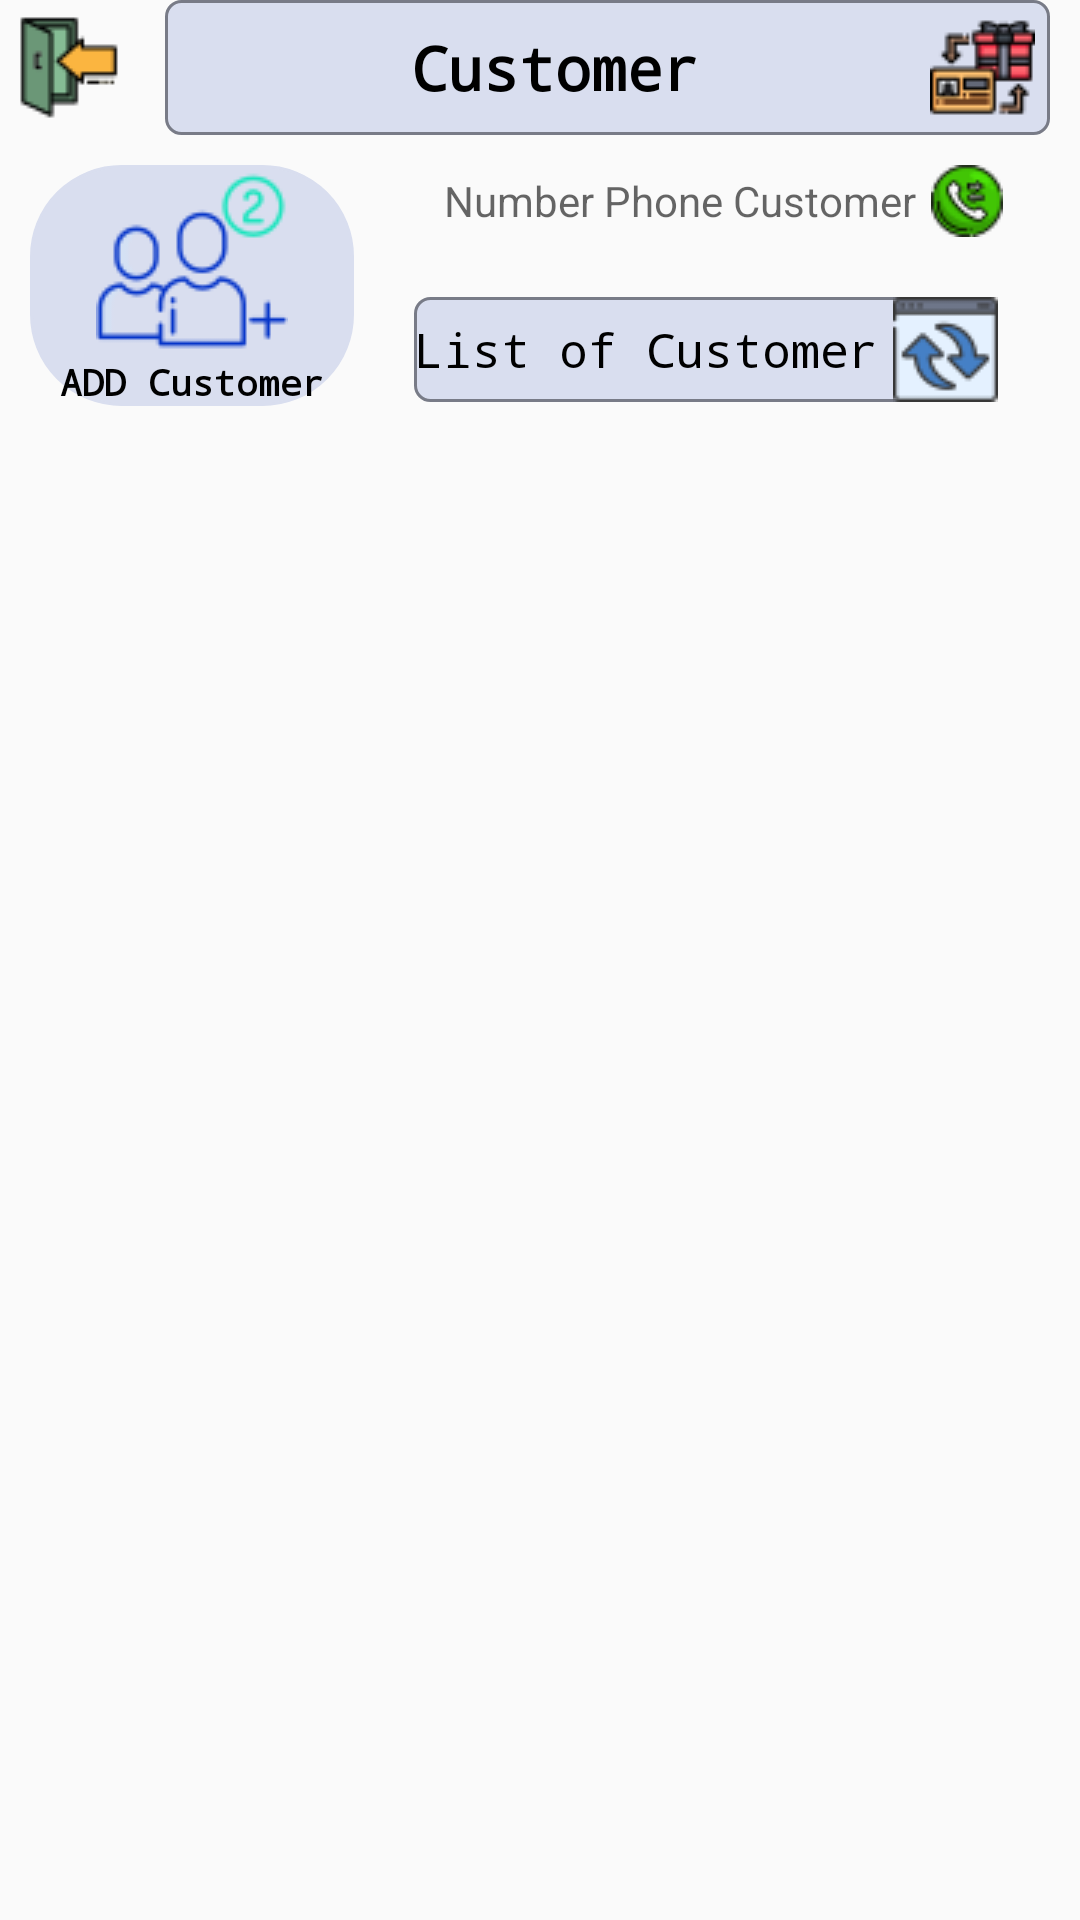

Where to tap for icons on this 1080px x 1920px app screen, as (x=x, y=y):
exit: (x=69, y=67)
